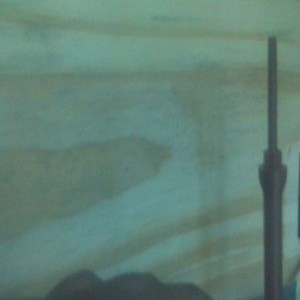obeng: (258, 36, 288, 300)
